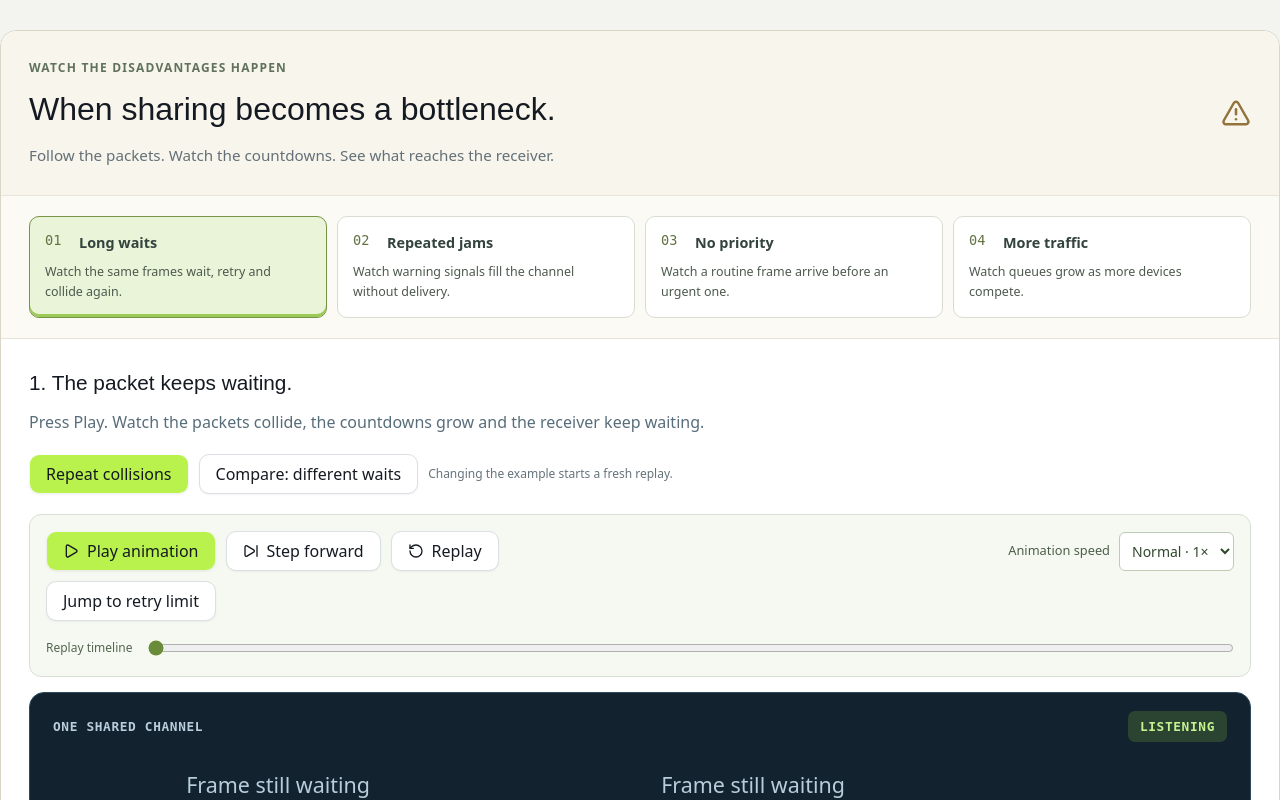
Test: animated CSMA/CD disadvantages › does not change access order or restart playback when urgency changes
Click the button "No priority".
click(794, 267)  # box top-left (645, 216), bottom-right (943, 318)
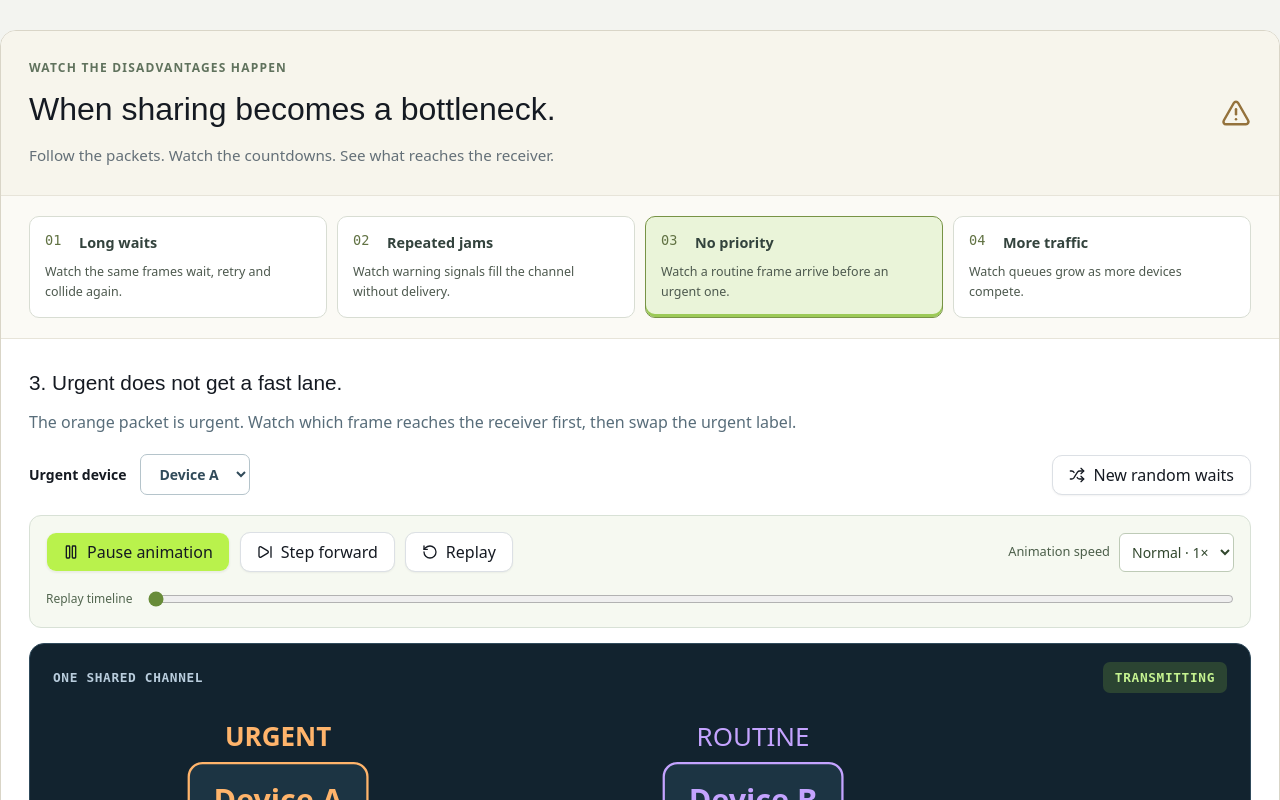
Click the button "Pause animation".
click(138, 552)  # box top-left (46, 532), bottom-right (230, 572)
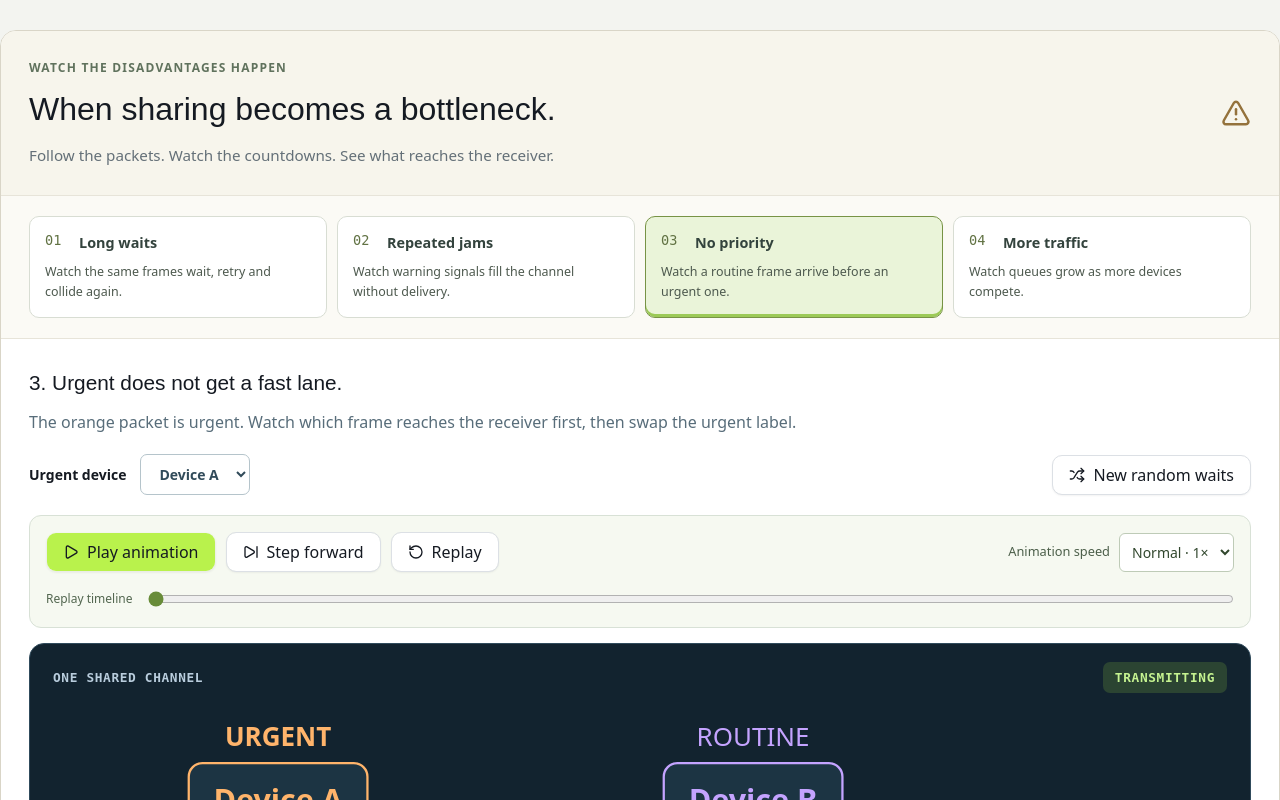
Click the button "Step forward".
click(303, 552)  # box top-left (226, 532), bottom-right (381, 572)
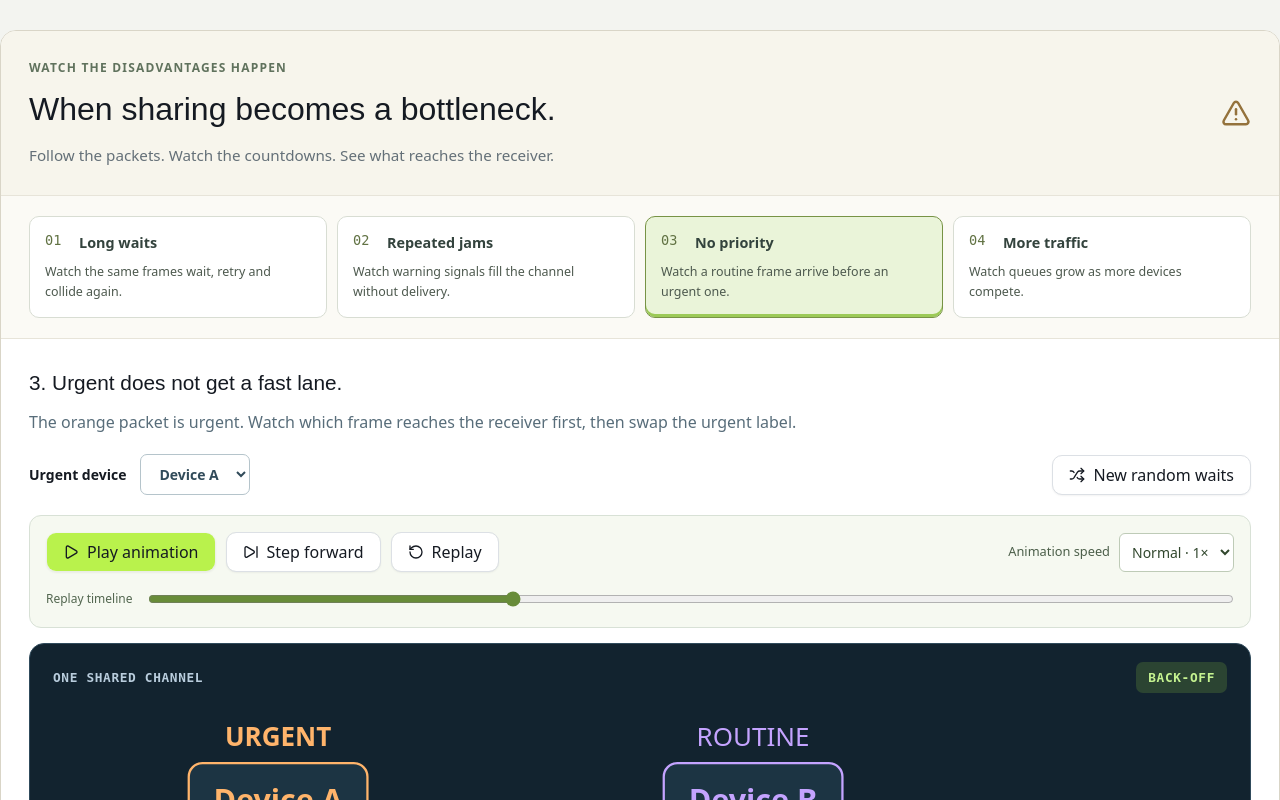
Select "Device B" in the dropdown labelled "Urgent device" at (195, 474), box top-left (140, 454), bottom-right (250, 495)
(page scrolled)
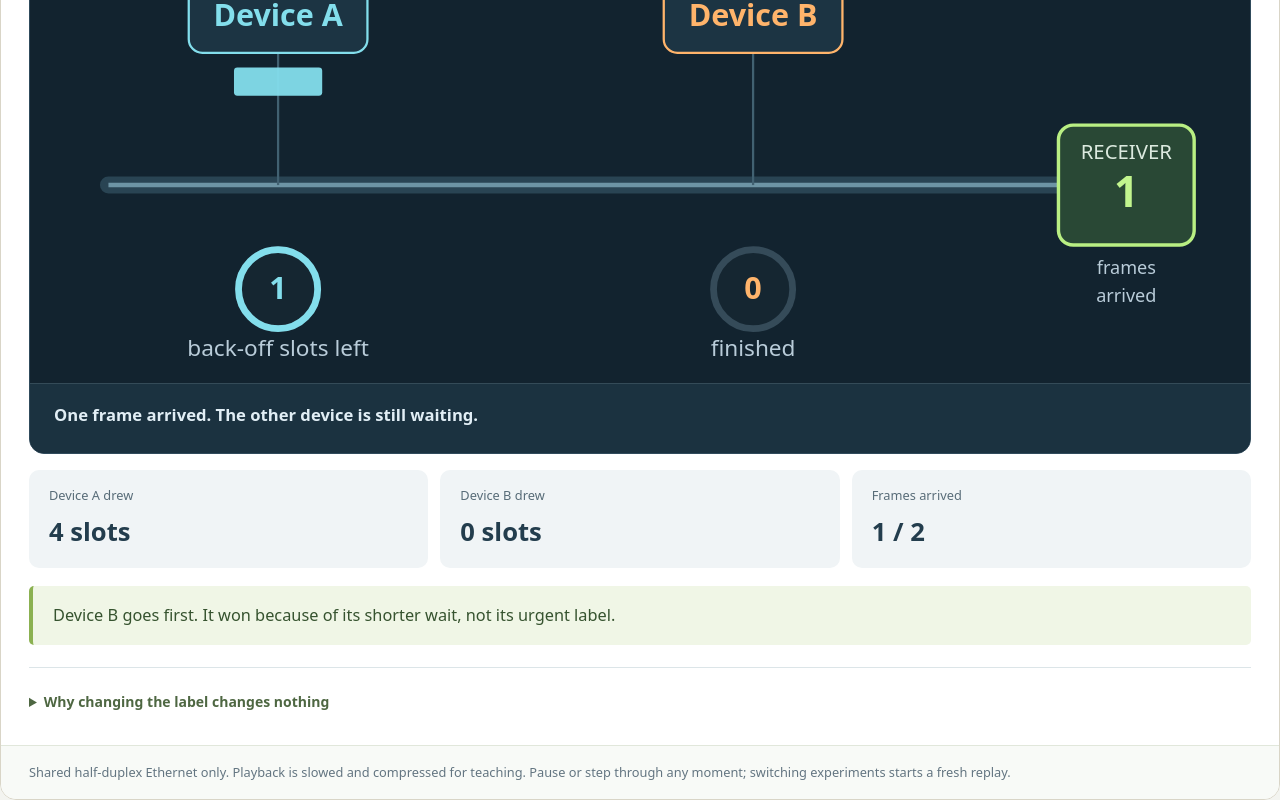
Check: the text "shorter wait, not its urgent label" is shown, box top-left (53, 604), bottom-right (615, 626)
